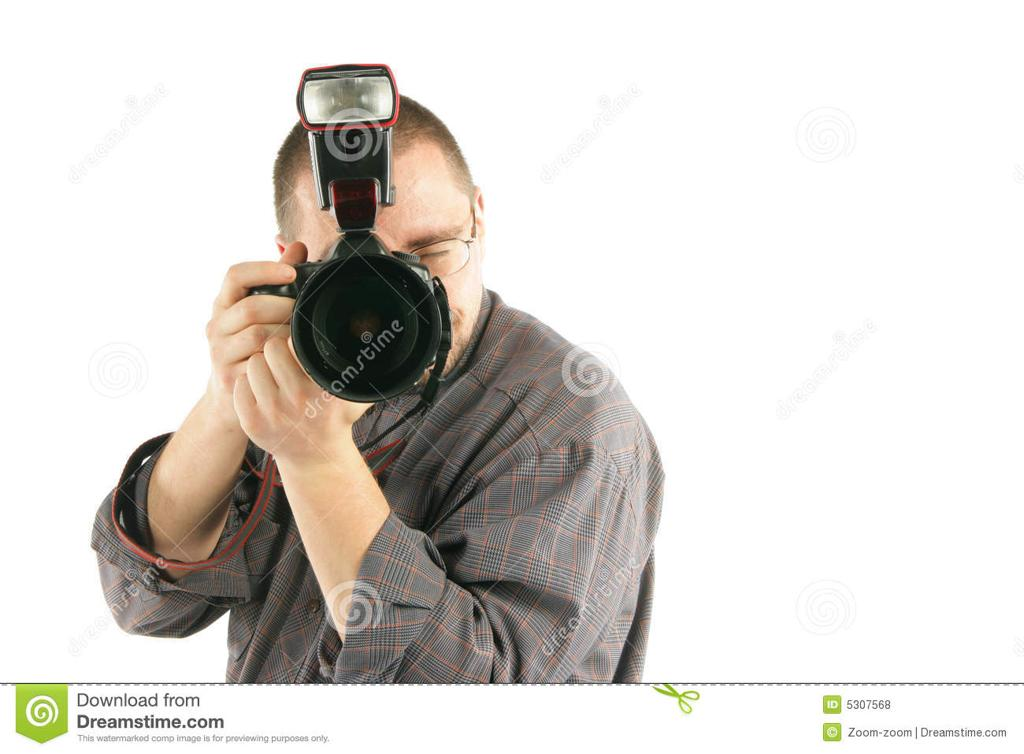face: (300, 122, 472, 394)
